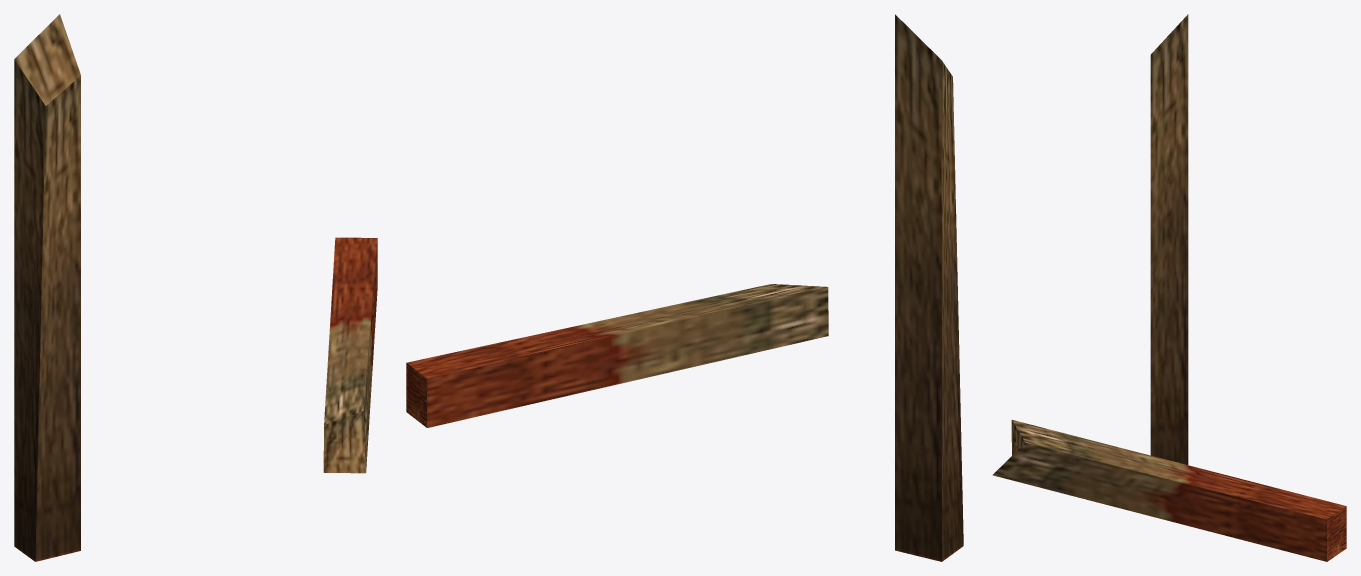
Rendered from MStck03.glb.
3 views of the same model, side by side, from view 1: azimuth 30°, elevation 25°; view 2: azimuth 150°, elevation 25°; view 3: azimuth 270°, elevation 25° (orthographic). The views are drawn at different scales.
Parts seen in each view (by area): view 1: 01 Mesh0; view 2: 01 Mesh0; view 3: 01 Mesh0.
Boxes of the visible parts, box(x1,y1,x2,y2) form: 01 Mesh0: box(14, 14, 377, 561); 01 Mesh0: box(406, 14, 963, 561); 01 Mesh0: box(992, 14, 1346, 561).
Size of the model in its own units: 0.6693 by 0.7542 by 0.5254.
Materials: 2 (1 with a texture image).
